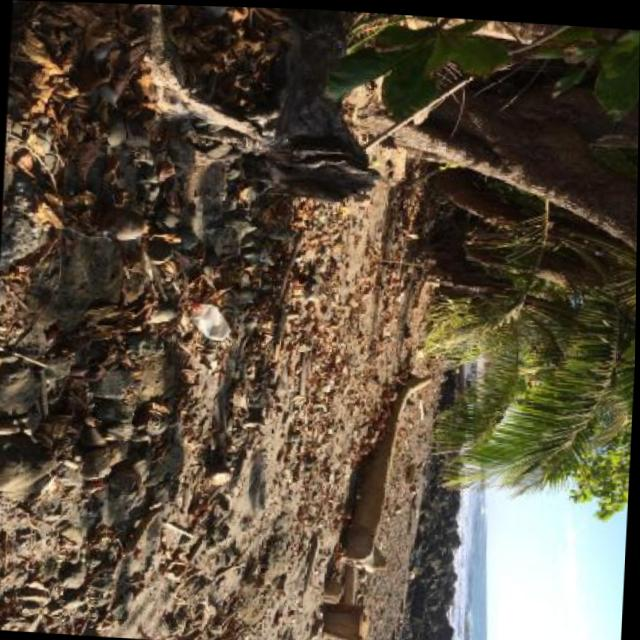plastic: (189, 302, 230, 341)
